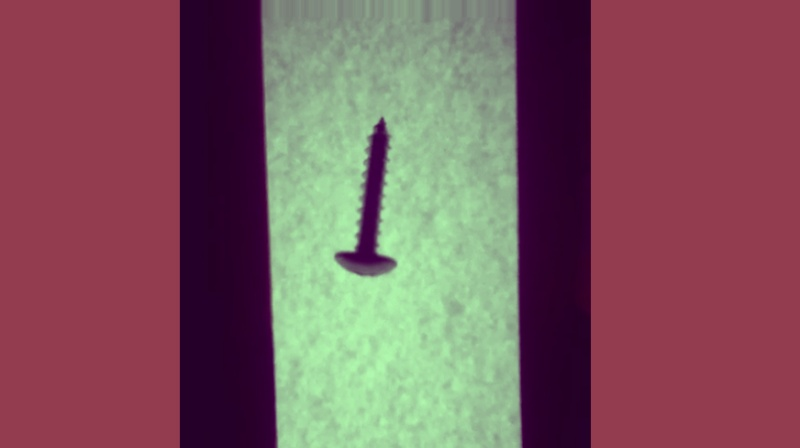S003: (332, 110, 400, 280)
